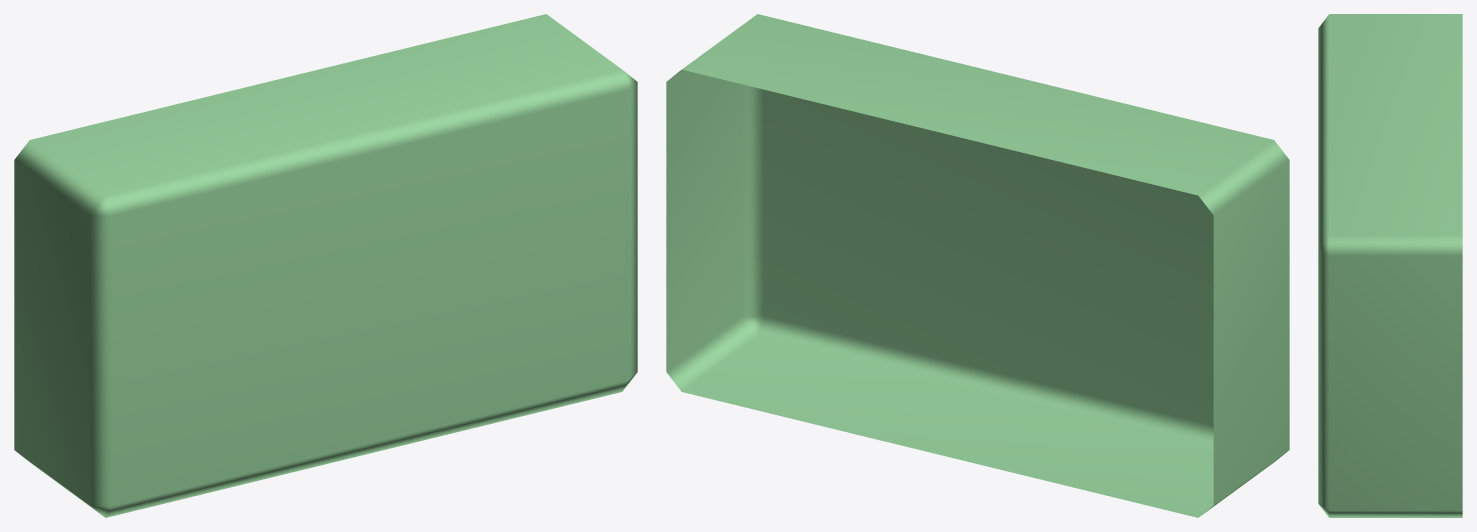
Rendered from Brick.fbx.
The picture shows the model from 3 angles, left to right: view 1: azimuth 30°, elevation 25°; view 2: azimuth 150°, elevation 25°; view 3: azimuth 270°, elevation 25°; orthographic projection. The views are drawn at different scales.
Parts seen in each view (by area): view 1: Brick_Deco; view 2: Brick_Deco; view 3: Brick_Deco.
Part boxes in pixels (x1,y1,x2,y2): Brick_Deco: (14,14,637,517); Brick_Deco: (666,14,1289,517); Brick_Deco: (1318,14,1462,517).
Size of the model in its own units: 0.6113 by 0.344 by 0.1588.
